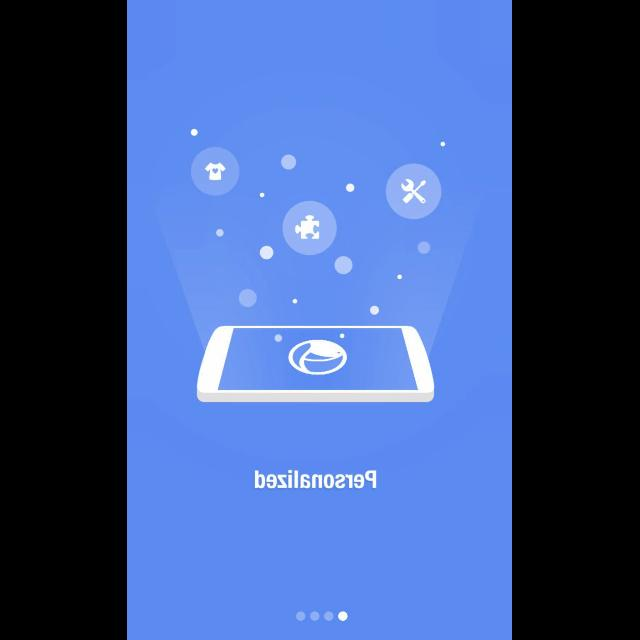image: (162, 128, 472, 404)
pageindicator: (296, 610, 348, 622)
text: (255, 469, 378, 488)
